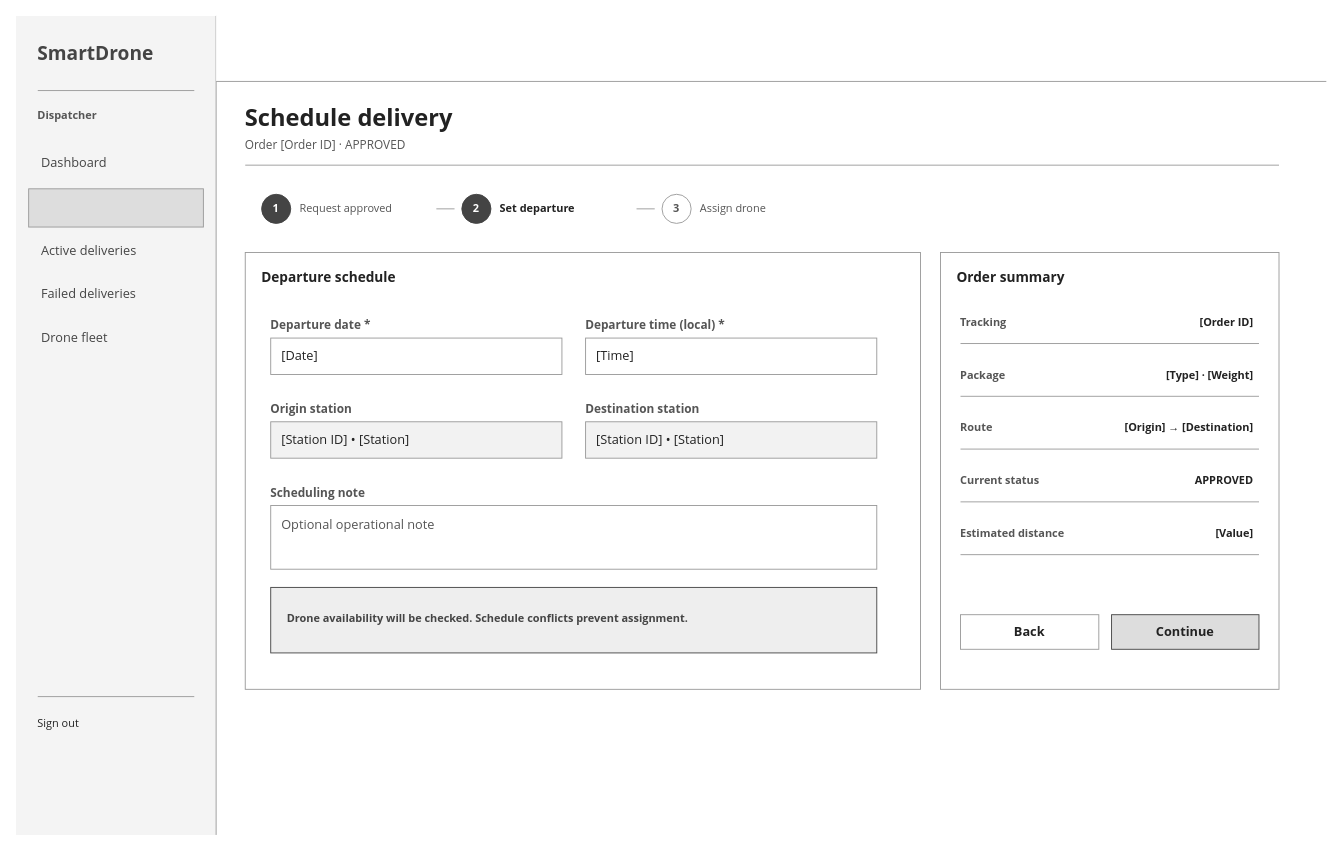
Some shapes in this 1343 by 852 pixel diagram are drawn without their labels. Each missing label, with the centre of its shape:
[User]: point (771, 48)
Pending orders: point (115, 207)
